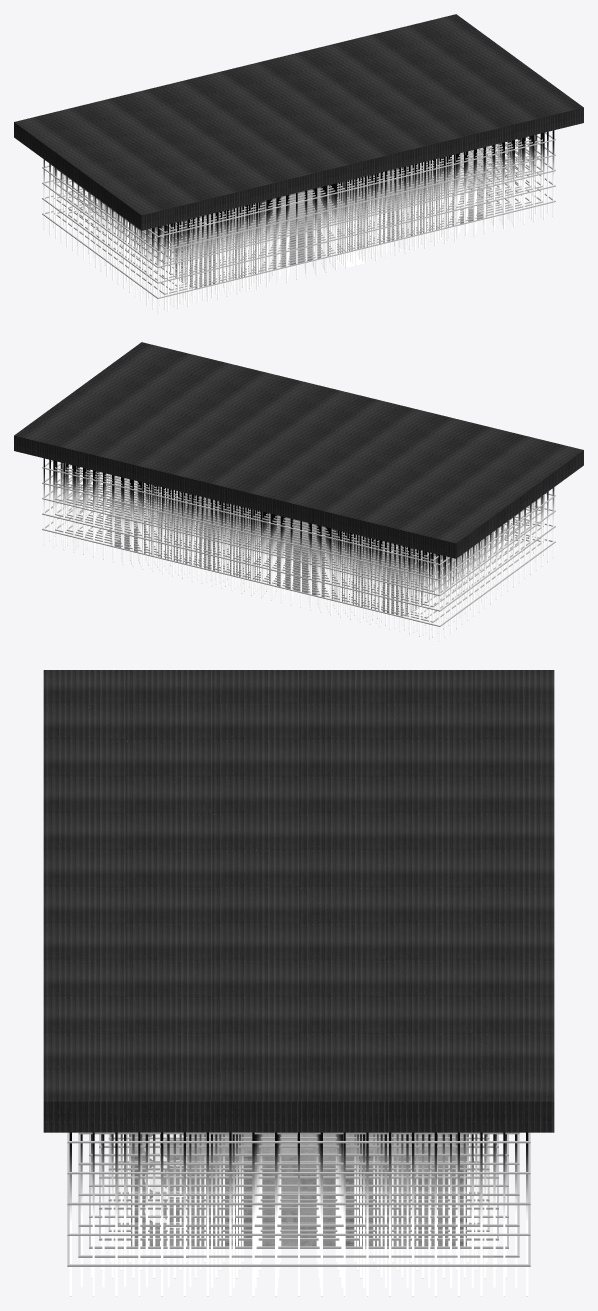
Rendered from TES-v2.glb.
3 renders of one model, top to bottom at view 1: azimuth 30°, elevation 25°; view 2: azimuth 150°, elevation 25°; view 3: azimuth 270°, elevation 25°, orthographic. The views are drawn at different scales.
Parts seen in each view (by area): view 1: vert; view 2: vert; view 3: vert.
Boxes of the visible parts, x1,y1,x2,y2 form: vert: [14, 14, 583, 313]; vert: [14, 342, 583, 641]; vert: [43, 670, 554, 1296].
Bounding box in the file's own units: 102 × 23.99 × 51.
Materials: 6 (3 with a texture image).
